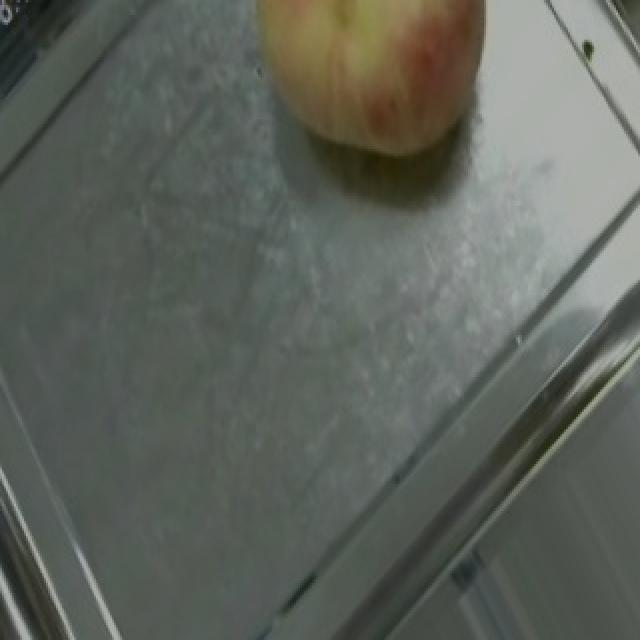Fruit: (210, 0, 530, 193)
